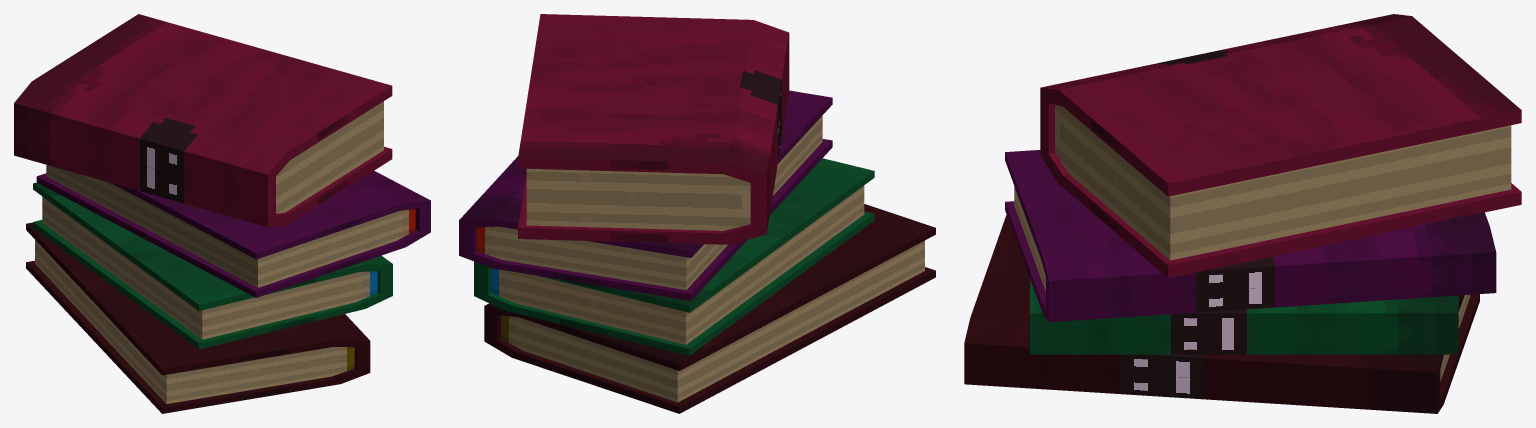
File: E_BooksLaying.fbx
3 renders of one model, left to right at view 1: azimuth 30°, elevation 25°; view 2: azimuth 150°, elevation 25°; view 3: azimuth 270°, elevation 25°, orthographic. The views are drawn at different scales.
Parts seen in each view (by area): view 1: Cube.009; view 2: Cube.009; view 3: Cube.009.
Part boxes in pixels (<box>): Cube.009: <box>14,14,430,413</box>; Cube.009: <box>459,14,935,413</box>; Cube.009: <box>964,14,1521,413</box>.
Bounding box in the file's own units: 57.08 × 39.32 × 72.93.
